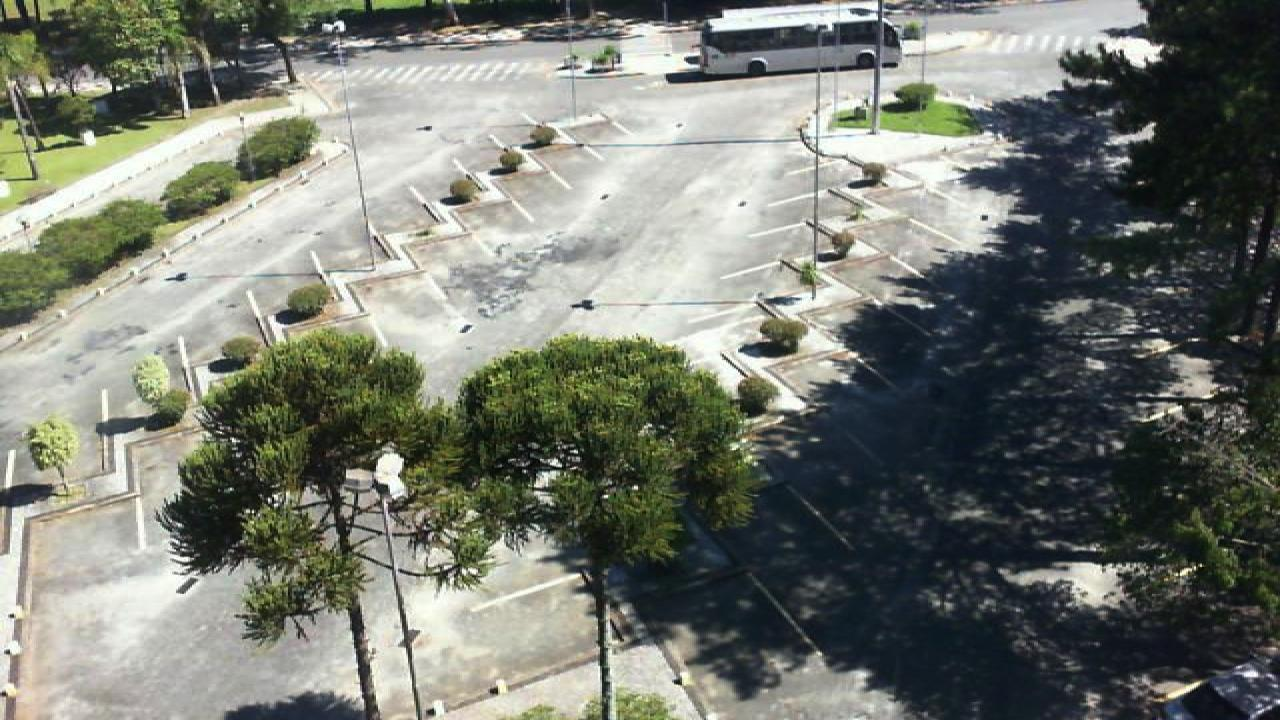Car: (1160, 662, 1280, 720)
